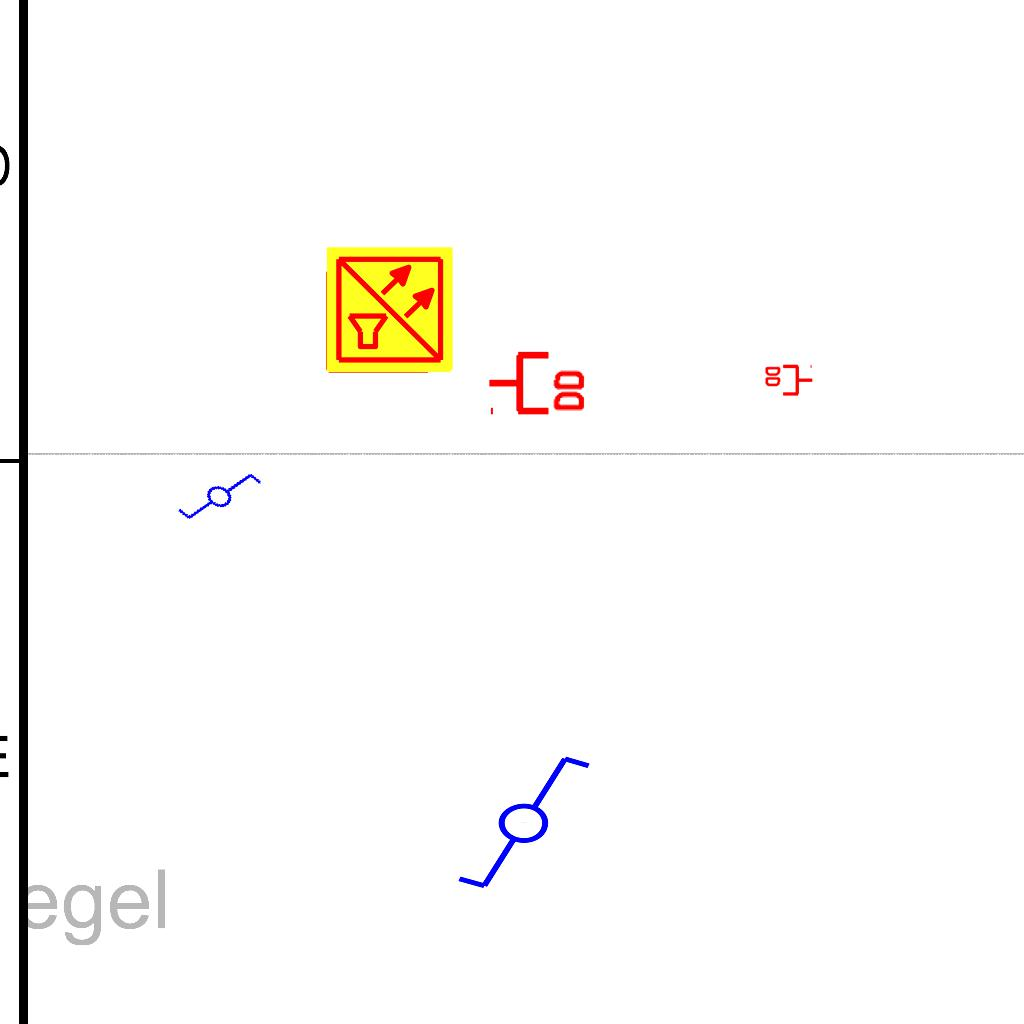Datenanschluss_zweifach: (486, 347, 589, 416), (763, 364, 814, 398)
OKW_Multisensormelder_(Kombination_optischer_Rauch-Kahlenmonoxid_Waerme-Melder): (324, 244, 456, 376)
Wechselschalter: (437, 749, 594, 893), (166, 445, 266, 543)
